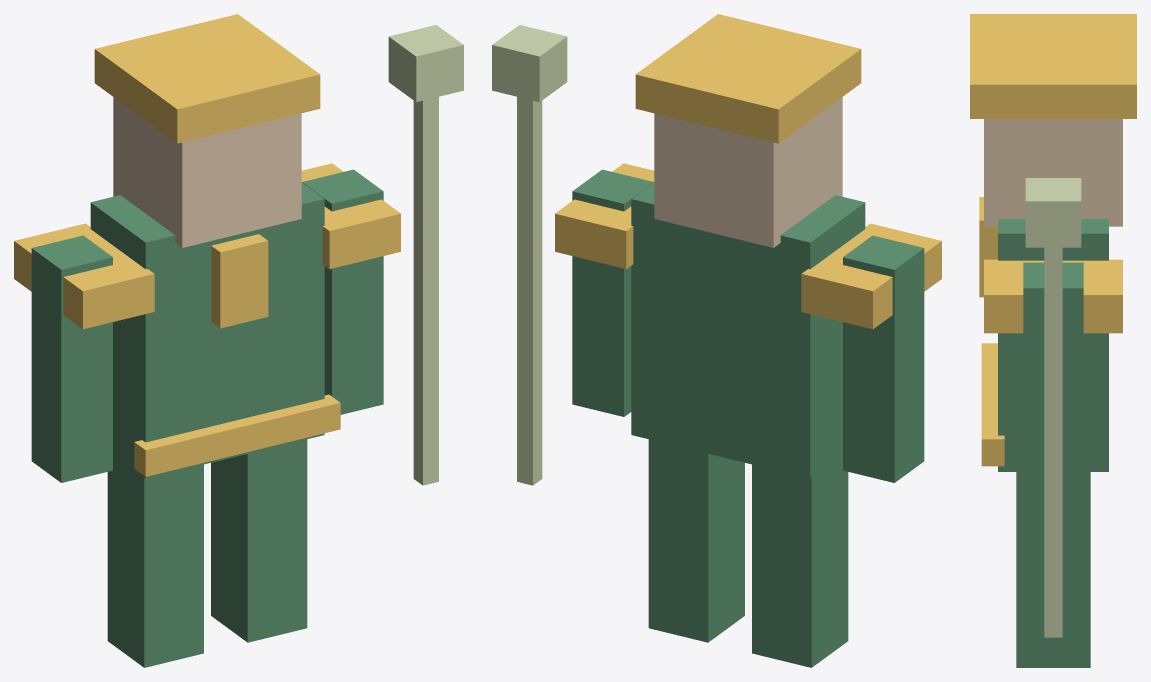
File: 12_talia_spirebound_ranger_at_chain_lift.glb
The picture shows the model from 3 angles, left to right: view 1: azimuth 30°, elevation 25°; view 2: azimuth 150°, elevation 25°; view 3: azimuth 270°, elevation 25°; orthographic projection.
Visible parts, largest first — view 1: Talia Spirebound, Ranger at Chain-Lift; view 2: Talia Spirebound, Ranger at Chain-Lift; view 3: Talia Spirebound, Ranger at Chain-Lift.
Boxes of the visible parts, <box> form: Talia Spirebound, Ranger at Chain-Lift: <box>14,14,463,667</box>; Talia Spirebound, Ranger at Chain-Lift: <box>492,14,941,667</box>; Talia Spirebound, Ranger at Chain-Lift: <box>970,14,1136,667</box>.
Bounding box in the file's own units: 1.06 × 1.44 × 0.3767.
